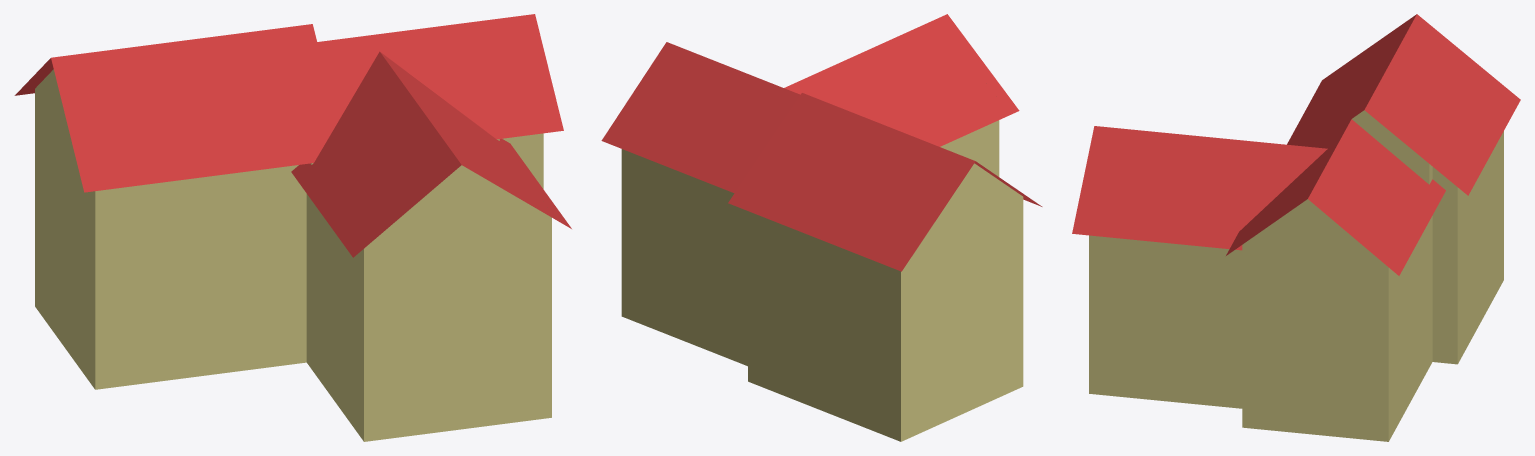
3 renders of one model, left to right at view 1: azimuth 30°, elevation 25°; view 2: azimuth 150°, elevation 25°; view 3: azimuth 270°, elevation 25°, orthographic. The views are drawn at different scales.
Bounding box in the file's own units: 24.52 × 24.09 × 14.88.
